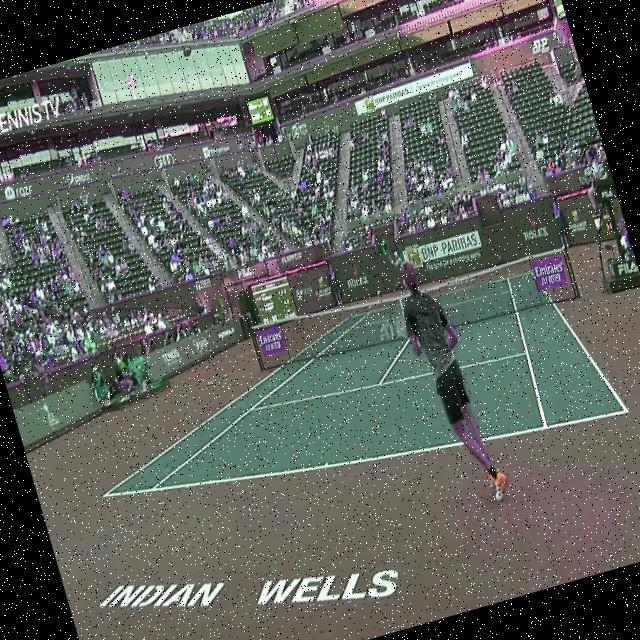court: (72, 248, 630, 559)
net: (249, 238, 583, 384)
player: (374, 248, 511, 518)
